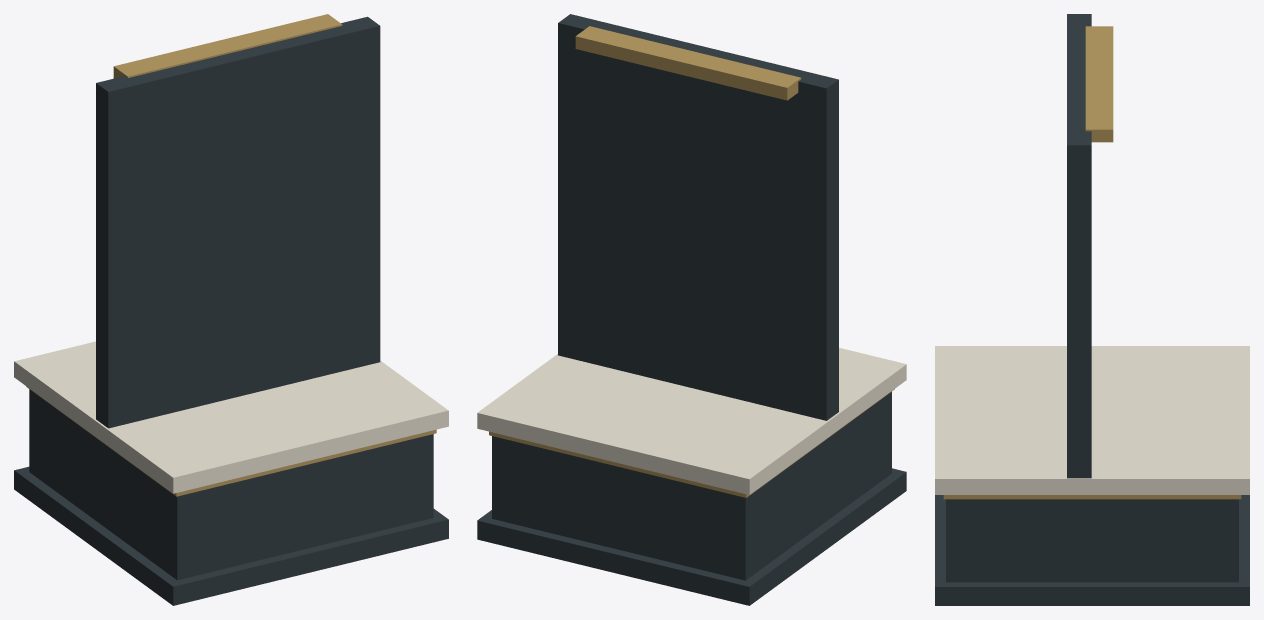
Rendered from VIC_A10_FEATURE_PANEL_Roblox.fbx.
3 views of the same model, side by side, from view 1: azimuth 30°, elevation 25°; view 2: azimuth 150°, elevation 25°; view 3: azimuth 270°, elevation 25° (orthographic).
Parts seen in each view (by area): view 1: VIC_A10_FEATURE_PANEL__Charcoal, VIC_A10_FEATURE_PANEL__Ivory, VIC_A10_FEATURE_PANEL__Brass; view 2: VIC_A10_FEATURE_PANEL__Charcoal, VIC_A10_FEATURE_PANEL__Ivory, VIC_A10_FEATURE_PANEL__Brass; view 3: VIC_A10_FEATURE_PANEL__Charcoal, VIC_A10_FEATURE_PANEL__Ivory, VIC_A10_FEATURE_PANEL__Brass.
Part boxes in pixels (box(x1,y1,x2,y2)): VIC_A10_FEATURE_PANEL__Charcoal: box(14, 16, 448, 605); VIC_A10_FEATURE_PANEL__Ivory: box(14, 341, 448, 493); VIC_A10_FEATURE_PANEL__Brass: box(26, 14, 436, 496); VIC_A10_FEATURE_PANEL__Charcoal: box(477, 14, 906, 605); VIC_A10_FEATURE_PANEL__Ivory: box(477, 347, 906, 494); VIC_A10_FEATURE_PANEL__Brass: box(489, 26, 894, 497); VIC_A10_FEATURE_PANEL__Charcoal: box(935, 14, 1249, 605); VIC_A10_FEATURE_PANEL__Ivory: box(935, 346, 1249, 494); VIC_A10_FEATURE_PANEL__Brass: box(943, 26, 1241, 499).
Bounding box in the file's own units: 3.6 × 5.82 × 3.6.
